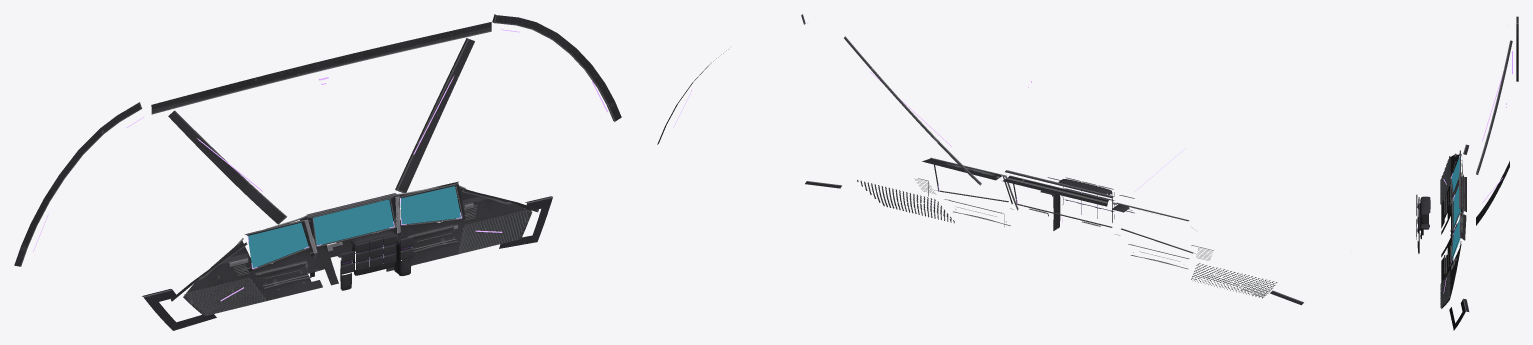
Rendered from sd_hayalet_cockpit_r002.glb.
The picture shows the model from 3 angles, left to right: view 1: azimuth 30°, elevation 25°; view 2: azimuth 150°, elevation 25°; view 3: azimuth 270°, elevation 25°; orthographic projection. The views are drawn at different scales.
Parts seen in each view (by area): view 1: LOD0_body, SCR_RADAR, SCR_HULL, SCR_SYS, LOD0_emit; view 2: LOD0_body; view 3: LOD0_body, LOD0_emit, SCR_RADAR, SCR_HULL, SCR_SYS.
Boxes of the visible parts, x1,y1,x2,y2 form: LOD0_body: [14, 14, 621, 330]; SCR_RADAR: [313, 199, 393, 245]; SCR_HULL: [400, 186, 460, 224]; SCR_SYS: [248, 223, 308, 267]; LOD0_emit: [33, 29, 607, 301]; LOD0_body: [657, 14, 1303, 305]; LOD0_body: [1416, 16, 1518, 330]; LOD0_emit: [1443, 25, 1512, 293]; SCR_RADAR: [1453, 185, 1460, 228]; SCR_HULL: [1452, 219, 1460, 259]; SCR_SYS: [1451, 157, 1459, 191].
Bounding box in the file's own units: 4.82 × 1.52 × 0.8424.
3 materials, 1 textured.
